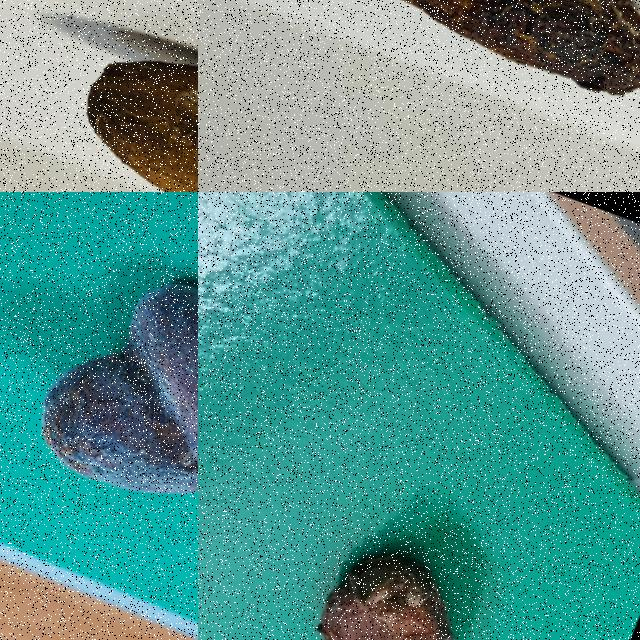Agglomerated_cocoabeans: (0, 192, 197, 601)
Fine_cocoabeans: (246, 0, 639, 170), (9, 0, 197, 191)
Flat_cocoabeans: (241, 501, 540, 639)
